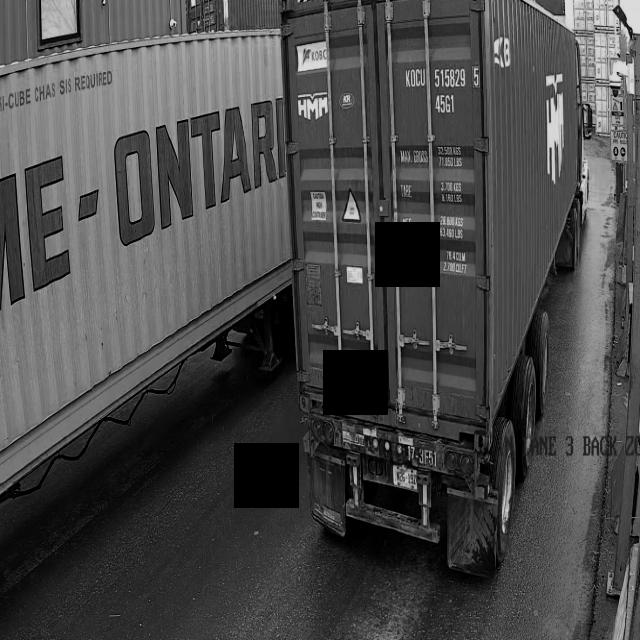container_company_logo: (294, 86, 332, 130)
container_number: (399, 60, 475, 120)
truck_with_container: (280, 0, 588, 576)
